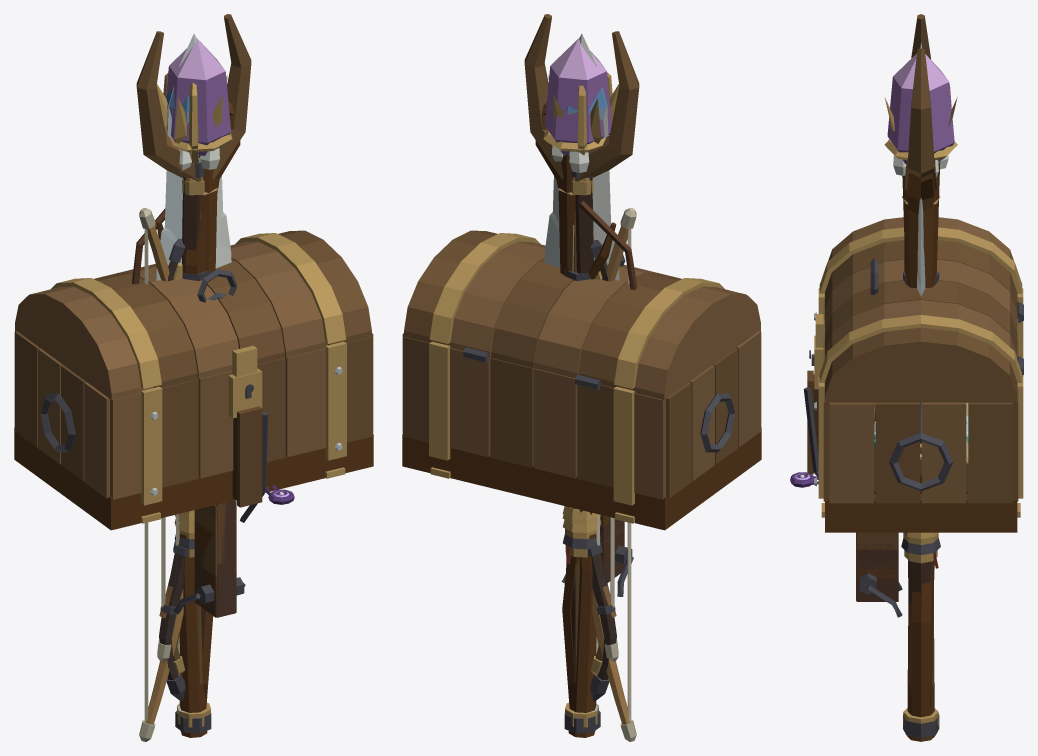
The model's file is items.glb.
The picture shows the model from 3 angles, left to right: view 1: azimuth 30°, elevation 25°; view 2: azimuth 150°, elevation 25°; view 3: azimuth 270°, elevation 25°; orthographic projection.
Visible parts, largest first — view 1: treasure_chest, treasure_chest_lid, weapon_staff_arcane, weapon_crossbow_repeating, weapon_crossbow_arbalest, weapon_staff_ember, weapon_bow_war, weapon_bow_long, weapon_staff_gnarled, weapon_sword_greatsword, weapon_staff_oak, weapon_bow_long_string (+3 smaller); view 2: treasure_chest, treasure_chest_lid, weapon_staff_arcane, weapon_staff_ember, weapon_bow_war, weapon_bow_long, weapon_staff_gnarled, weapon_staff_oak, weapon_sword_greatsword, weapon_crossbow_arbalest, weapon_bow_long_string, weapon_sword_broad (+1 smaller); view 3: treasure_chest_lid, treasure_chest, weapon_staff_arcane, weapon_staff_gnarled, weapon_crossbow_arbalest, weapon_crossbow_repeating, weapon_staff_ember, weapon_sword_greatsword, weapon_staff_oak, weapon_crossbow_heavy, item_town_portal.
Part boxes in pixels (x1,y1,x2,y2): treasure_chest: (14,330,373,530); treasure_chest_lid: (15,230,371,399); weapon_staff_arcane: (132,14,251,737); weapon_crossbow_repeating: (194,406,268,564); weapon_crossbow_arbalest: (173,269,245,617); weapon_staff_ember: (156,75,227,733); weapon_bow_war: (159,238,188,701); weapon_bow_long: (139,208,183,741); weapon_staff_gnarled: (156,101,240,706); weapon_sword_greatsword: (164,34,223,549); weapon_staff_oak: (163,73,202,684); weapon_bow_long_string: (144,229,148,722); treasure_chest: (402,330,761,530); treasure_chest_lid: (404,230,760,399); weapon_staff_arcane: (524,14,639,737); weapon_staff_ember: (548,75,619,733); weapon_bow_war: (565,240,616,701); weapon_bow_long: (592,208,636,741); weapon_staff_gnarled: (535,102,616,706); weapon_staff_oak: (565,72,612,683); weapon_sword_greatsword: (552,34,610,549); weapon_crossbow_arbalest: (561,254,633,596); weapon_bow_long_string: (627,229,631,722); weapon_sword_broad: (544,212,619,524); treasure_chest_lid: (815,217,1022,402); treasure_chest: (809,288,1023,532); weapon_staff_arcane: (884,14,957,741); weapon_staff_gnarled: (902,169,940,741); weapon_crossbow_arbalest: (856,258,902,617); weapon_crossbow_repeating: (803,370,898,549); weapon_staff_ember: (884,97,957,738); weapon_sword_greatsword: (901,42,940,554); weapon_staff_oak: (904,85,951,685); weapon_crossbow_heavy: (856,411,898,578); item_town_portal: (790,402,968,487).
Bounding box in the file's own units: 0.998 × 2.43 × 0.7292.
